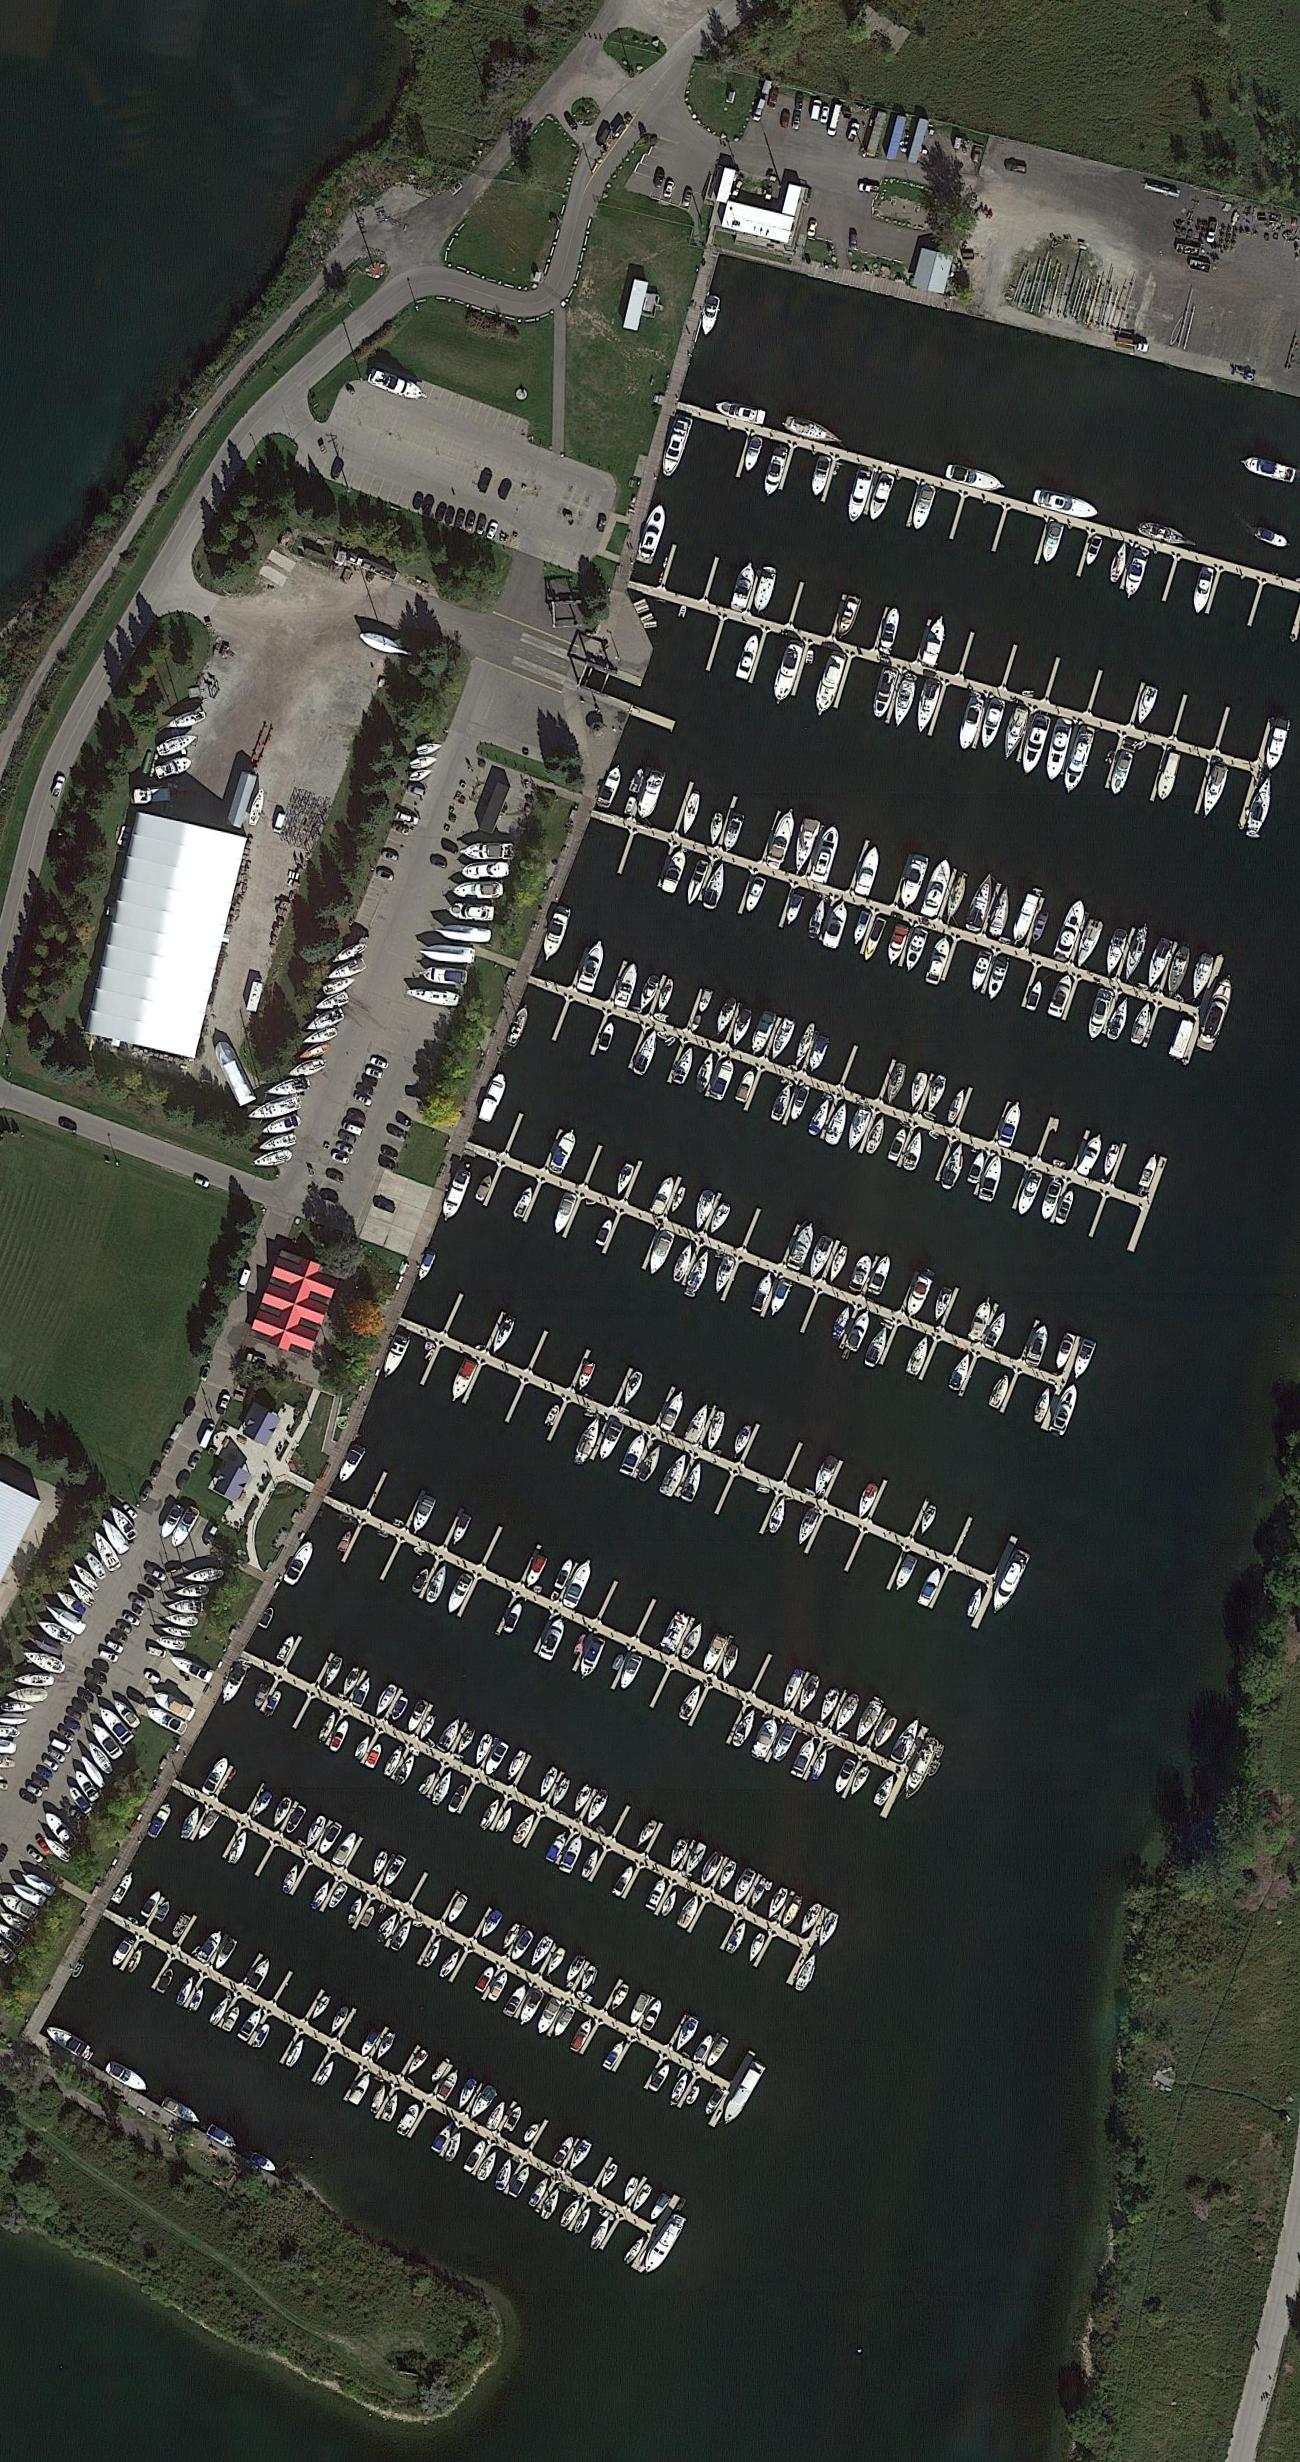harbor: (84, 1868, 700, 2280), (149, 1738, 773, 2140), (307, 1444, 951, 1828), (223, 1607, 849, 1998), (384, 1274, 1041, 1641), (453, 1087, 1104, 1443), (512, 921, 1177, 1257), (612, 512, 1293, 840), (579, 750, 1243, 1069), (663, 369, 1298, 641)
ship: (1193, 973, 1242, 1057), (210, 1038, 258, 1109), (640, 2212, 691, 2277), (1059, 720, 1102, 796), (988, 1543, 1034, 1614), (720, 2059, 767, 2127), (1050, 897, 1093, 967), (1028, 484, 1102, 523), (957, 871, 1001, 936), (810, 648, 849, 718), (365, 364, 427, 408), (657, 411, 697, 479), (537, 899, 579, 963), (898, 1738, 940, 1801), (839, 461, 879, 527), (917, 856, 956, 923), (769, 637, 807, 705), (43, 2017, 98, 2063), (1040, 712, 1075, 784), (633, 502, 671, 568), (781, 412, 845, 451), (763, 807, 801, 872), (1018, 708, 1055, 774), (895, 846, 932, 912), (1196, 757, 1232, 822), (807, 823, 844, 886), (437, 1166, 477, 1224), (942, 458, 1006, 494), (1046, 1382, 1084, 1441), (1141, 932, 1178, 992), (908, 675, 944, 736), (850, 1692, 892, 1744), (474, 1070, 513, 1126), (560, 1556, 598, 1613), (1007, 887, 1043, 947), (789, 814, 822, 878), (634, 764, 671, 821), (954, 692, 989, 752), (1151, 747, 1186, 807), (443, 1354, 484, 1405), (93, 1701, 138, 1747), (1239, 449, 1298, 484), (916, 613, 952, 670), (1245, 776, 1279, 836), (1121, 542, 1155, 602), (569, 1415, 606, 1470), (1082, 981, 1115, 1042), (1000, 701, 1033, 762), (246, 1090, 305, 1124), (41, 1598, 91, 1638), (355, 625, 410, 661), (215, 1658, 253, 1709), (1137, 517, 1194, 551), (863, 469, 898, 524), (906, 480, 941, 535), (853, 844, 888, 899), (900, 1268, 937, 1320), (814, 903, 851, 955), (40, 1807, 80, 1855), (102, 2056, 151, 2095), (784, 1220, 820, 1273), (678, 855, 714, 908), (1011, 1165, 1047, 1218), (681, 1247, 716, 1301), (935, 1142, 970, 1196), (745, 1713, 783, 1762), (576, 938, 608, 996), (868, 663, 900, 721), (657, 1448, 692, 1501), (888, 1716, 925, 1766), (714, 394, 770, 427), (574, 1633, 610, 1684), (282, 1539, 318, 1590), (768, 1010, 802, 1064), (628, 1028, 664, 1079), (759, 442, 791, 499), (548, 1185, 581, 1240), (1121, 922, 1151, 982), (922, 935, 954, 991), (993, 1100, 1028, 1151), (976, 698, 1009, 752), (379, 1329, 413, 1381), (592, 762, 626, 814), (1045, 971, 1079, 1023), (167, 1650, 216, 1686), (151, 1686, 197, 1724), (728, 560, 759, 616), (1164, 944, 1195, 1000), (657, 847, 691, 898), (747, 1006, 781, 1057), (644, 1225, 676, 1279), (167, 1503, 203, 1551), (144, 1703, 192, 1739), (1036, 516, 1069, 568), (1130, 678, 1163, 730), (535, 1616, 570, 1665), (659, 1607, 693, 1657), (546, 1128, 579, 1179), (1103, 994, 1136, 1045), (1188, 562, 1218, 618), (88, 1719, 126, 1763), (1022, 1323, 1056, 1372), (806, 1231, 838, 1283), (700, 862, 732, 914), (32, 1613, 78, 1649), (656, 1386, 689, 1436), (940, 869, 971, 922), (962, 1298, 996, 1346), (831, 590, 863, 641), (1263, 717, 1293, 771), (90, 1526, 123, 1575), (904, 1332, 937, 1381), (726, 1002, 759, 1051), (751, 562, 782, 614), (1188, 949, 1219, 1001), (988, 885, 1016, 942), (434, 919, 493, 946), (616, 1432, 649, 1480), (98, 1515, 134, 1559), (22, 1645, 70, 1678), (711, 990, 744, 1038), (442, 1570, 477, 1615), (900, 924, 932, 973), (860, 910, 890, 962), (1074, 1132, 1107, 1179), (676, 1619, 710, 1664), (199, 1754, 233, 1799), (978, 1308, 1012, 1353), (1102, 922, 1129, 978), (1074, 915, 1102, 969), (808, 1451, 840, 1498), (407, 1491, 439, 1538), (420, 941, 480, 966), (832, 1690, 866, 1734), (699, 1628, 730, 1676), (633, 1442, 666, 1487), (335, 1441, 368, 1486), (1109, 745, 1137, 798), (977, 1157, 1006, 1208), (729, 1705, 761, 1751), (863, 1327, 895, 1373), (670, 2013, 704, 2056), (595, 1416, 626, 1463), (822, 1239, 853, 1286), (708, 1058, 739, 1105), (615, 1649, 648, 1693), (733, 633, 762, 683), (421, 1563, 453, 1608), (487, 1312, 519, 1357), (843, 1310, 875, 1355), (822, 1101, 852, 1149), (107, 1503, 142, 1544), (648, 1173, 679, 1219), (851, 1476, 882, 1522), (581, 1784, 614, 1827), (515, 1984, 547, 2028), (945, 1351, 977, 1395), (914, 1566, 946, 1610), (696, 1843, 727, 1888), (17, 1868, 59, 1901), (881, 921, 911, 967), (891, 676, 917, 729), (792, 1018, 819, 1069), (1166, 1019, 1198, 1062), (669, 1238, 697, 1287), (612, 961, 640, 1010), (729, 1863, 760, 1907), (506, 1810, 540, 1850), (109, 1695, 143, 1735), (159, 2093, 200, 2126), (84, 1736, 117, 1777), (985, 952, 1012, 1002), (500, 1979, 532, 2021), (1128, 1000, 1156, 1048), (742, 870, 771, 916), (790, 1736, 821, 1779), (682, 1401, 712, 1445), (793, 1504, 823, 1548), (522, 1549, 552, 1593), (303, 1005, 347, 1035), (8, 1878, 48, 1911), (845, 1252, 875, 1296), (1070, 1334, 1098, 1381), (526, 1929, 558, 1970), (466, 2081, 498, 2122), (481, 1737, 513, 1778), (209, 1933, 241, 1974), (890, 1552, 922, 1593), (922, 1071, 951, 1116), (26, 1629, 68, 1660), (690, 1186, 717, 1234), (155, 729, 198, 759), (778, 1665, 806, 1711), (866, 1252, 894, 1298), (703, 1197, 735, 1237), (433, 1716, 465, 1756), (144, 1800, 176, 1840), (795, 1671, 824, 1715), (1039, 1175, 1065, 1224), (420, 964, 473, 988), (844, 1105, 871, 1152), (876, 606, 903, 653), (406, 984, 461, 1007), (534, 1994, 564, 2036), (766, 1276, 794, 1321), (805, 1097, 835, 1139), (1105, 542, 1133, 587), (679, 788, 705, 836), (1050, 1329, 1079, 1372), (768, 1084, 797, 1127), (503, 1005, 532, 1048), (157, 1501, 188, 1541), (195, 1926, 226, 1966), (71, 1765, 102, 1805), (670, 1044, 698, 1088), (770, 1723, 800, 1764), (316, 1652, 346, 1693), (65, 1573, 98, 1610), (3, 1890, 40, 1923), (558, 1834, 587, 1876), (260, 1111, 305, 1138), (693, 1051, 720, 1096), (504, 2164, 535, 2203), (244, 1955, 275, 1994), (77, 1752, 108, 1791), (330, 1829, 361, 1868), (567, 2016, 597, 2056), (966, 945, 991, 993), (451, 879, 508, 900), (864, 1113, 890, 1159), (793, 1953, 822, 1994), (618, 1367, 647, 1408), (711, 1251, 738, 1295), (53, 1586, 89, 1619), (164, 707, 208, 734), (325, 956, 369, 983), (235, 2006, 266, 2044), (379, 1852, 410, 1890), (814, 1908, 842, 1950), (678, 1681, 706, 1723), (587, 2214, 617, 2253), (720, 807, 746, 852), (679, 1460, 706, 1503), (816, 1682, 843, 1725), (985, 1373, 1014, 1413), (830, 1755, 859, 1795), (905, 1065, 930, 1111), (749, 1272, 775, 1316), (508, 1926, 538, 1964), (565, 2135, 595, 2173), (394, 2102, 424, 2140), (872, 1713, 902, 1751), (463, 841, 517, 862), (871, 1772, 900, 1811), (703, 1407, 728, 1452), (788, 1079, 813, 1124), (447, 901, 498, 923), (779, 1892, 807, 1932), (428, 1769, 456, 1809), (717, 1641, 743, 1684), (698, 294, 724, 337), (806, 1031, 832, 1074), (796, 1900, 827, 1936), (300, 1813, 330, 1850), (155, 754, 196, 781), (809, 452, 832, 500), (251, 1146, 295, 1171), (435, 2066, 463, 2105), (41, 1833, 74, 1866), (71, 1560, 103, 1594), (265, 1075, 312, 1098), (476, 1906, 506, 1942), (448, 1509, 475, 1549), (202, 2121, 238, 2151), (370, 2027, 399, 2064), (635, 970, 661, 1011), (674, 1893, 702, 1931), (460, 862, 513, 882), (764, 1882, 791, 1921), (683, 1838, 710, 1877), (372, 1679, 399, 1718), (331, 940, 370, 967), (317, 1818, 344, 1857), (599, 2039, 629, 2074), (1030, 1386, 1055, 1428), (903, 1131, 928, 1173), (388, 1918, 417, 1954), (846, 1762, 875, 1798), (443, 1889, 471, 1926), (177, 1803, 205, 1840), (269, 1792, 297, 1829), (225, 1830, 253, 1867), (509, 1185, 537, 1222), (461, 2137, 488, 2175), (643, 1875, 670, 1913), (404, 1696, 430, 1735), (884, 1058, 907, 1102), (537, 2188, 565, 2224), (373, 1910, 401, 1946), (807, 900, 831, 942), (536, 1760, 561, 1800), (943, 1087, 968, 1127), (561, 1950, 588, 1987), (723, 1921, 750, 1958), (474, 2148, 501, 2185), (453, 2075, 480, 2112), (665, 1834, 692, 1871), (338, 1662, 365, 1699), (286, 1057, 329, 1080), (828, 1306, 854, 1344), (1253, 524, 1291, 550), (1022, 979, 1048, 1017), (767, 1497, 791, 1538), (544, 1942, 572, 1977), (82, 1548, 110, 1583), (282, 1801, 310, 1836), (704, 2034, 731, 2070), (328, 1717, 354, 1754), (301, 1024, 341, 1048), (324, 1878, 353, 1911), (436, 1948, 464, 1982), (525, 2176, 553, 2210), (556, 2196, 584, 2230), (569, 1781, 597, 1815), (137, 1887, 165, 1921), (108, 1935, 136, 1969), (504, 1745, 529, 1783), (314, 989, 352, 1014), (612, 1159, 637, 1197), (1054, 1190, 1079, 1228), (610, 1865, 636, 1901), (668, 2070, 692, 2109), (477, 1797, 503, 1833), (348, 2072, 374, 2108), (783, 888, 807, 927), (742, 435, 766, 474), (1137, 1153, 1161, 1192), (965, 1148, 989, 1187), (848, 908, 872, 947), (551, 2003, 576, 2040), (627, 1990, 652, 2027), (551, 1557, 576, 1594), (930, 1285, 955, 1322), (634, 1817, 662, 1850), (258, 1131, 300, 1153), (646, 2189, 673, 2223), (548, 1775, 575, 1809), (543, 1831, 570, 1865), (734, 1069, 758, 1107), (1100, 1139, 1124, 1177), (499, 1918, 525, 1953), (714, 1857, 740, 1892), (393, 1752, 419, 1787), (441, 2130, 466, 2166), (470, 1730, 495, 1766), (916, 1500, 941, 1536), (247, 1789, 276, 1820), (205, 1996, 233, 2028), (747, 1874, 771, 1911), (445, 1783, 471, 1817), (282, 2037, 308, 2071), (702, 2084, 727, 2119), (575, 1358, 600, 1393), (358, 2024, 383, 2059), (493, 2156, 516, 2194), (405, 2047, 434, 2077), (248, 2148, 279, 2176), (471, 1965, 498, 1997), (745, 1930, 769, 1966), (620, 2236, 647, 2268), (67, 1785, 94, 1817), (608, 1980, 634, 2013), (629, 2181, 655, 2214), (308, 1879, 334, 1912), (594, 1021, 620, 1054), (110, 1872, 135, 1906), (173, 1974, 198, 2008), (429, 2123, 453, 2158), (4, 1911, 34, 1939), (646, 2064, 672, 2096), (196, 1809, 222, 1841), (885, 1128, 908, 1164), (552, 2134, 577, 2167), (381, 1746, 406, 1779), (472, 1173, 497, 1206), (248, 788, 268, 829), (641, 1999, 665, 2033), (579, 1847, 603, 1881), (417, 1709, 441, 1743), (420, 1937, 444, 1971), (280, 1861, 304, 1895), (1084, 532, 1106, 569), (168, 1909, 194, 1940), (352, 1675, 375, 1710), (321, 974, 356, 997), (596, 2160, 621, 2192), (183, 1566, 225, 1585), (655, 975, 676, 1013), (731, 1424, 755, 1457), (487, 1971, 511, 2003), (693, 2032, 717, 2064), (572, 2205, 595, 2238), (416, 1247, 439, 1280), (428, 2055, 454, 2084), (308, 1993, 333, 2023), (380, 2092, 402, 2126), (965, 1586, 987, 1620), (485, 2100, 509, 2131), (314, 2059, 338, 2090), (707, 807, 726, 846), (316, 1712, 339, 1744), (326, 2004, 349, 2036), (810, 1749, 831, 1784), (221, 2003, 243, 2036), (541, 1403, 566, 1432), (167, 1597, 205, 1616), (501, 2104, 525, 2134), (387, 1694, 411, 1724), (504, 1602, 525, 1636), (299, 1041, 333, 1062), (593, 1219, 616, 1250), (495, 1805, 517, 1837), (368, 2084, 389, 2117), (578, 1963, 601, 1993), (173, 1581, 211, 1599), (455, 1725, 477, 1756), (668, 1182, 690, 1213), (1030, 909, 1050, 943), (276, 1633, 297, 1665), (249, 2023, 273, 2051), (415, 1769, 439, 1797), (345, 1895, 366, 1927), (409, 1567, 432, 1596), (364, 1741, 386, 1771), (13, 1672, 56, 1687), (153, 1968, 176, 1996), (370, 1848, 390, 1880), (619, 2174, 641, 2203), (263, 1690, 285, 1719), (5, 1687, 47, 1702), (627, 766, 648, 796), (520, 2120, 544, 2146), (163, 1611, 202, 1627), (151, 1899, 174, 1926), (660, 1888, 680, 1919), (160, 1622, 195, 1639), (353, 1735, 374, 1763), (408, 753, 438, 772), (154, 1635, 189, 1651), (187, 1986, 207, 2014), (695, 985, 714, 1014), (357, 1904, 378, 1930), (127, 1946, 145, 1976), (257, 1605, 277, 1631), (252, 1681, 269, 1710), (335, 1530, 354, 1555), (621, 795, 640, 819), (416, 741, 444, 757), (1, 1701, 35, 1714), (406, 768, 433, 784), (686, 2084, 703, 2109), (574, 1987, 596, 2005), (926, 1758, 942, 1780), (611, 1652, 625, 1670), (71, 1962, 85, 1980), (934, 1743, 947, 1761)
